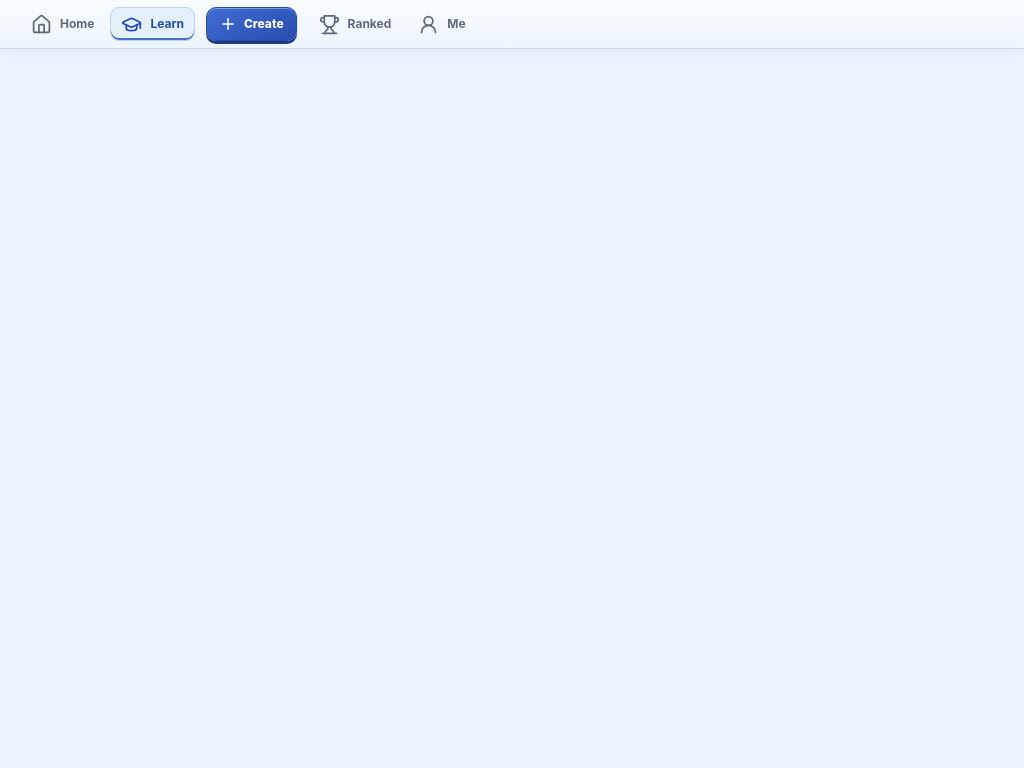
Test: the (+) Create action › opens the Create chooser over the current page, and stays a link to #/create
The image size is (1024, 768).
Click the link "Create" at (251, 24), box 206,7 -> 297,41
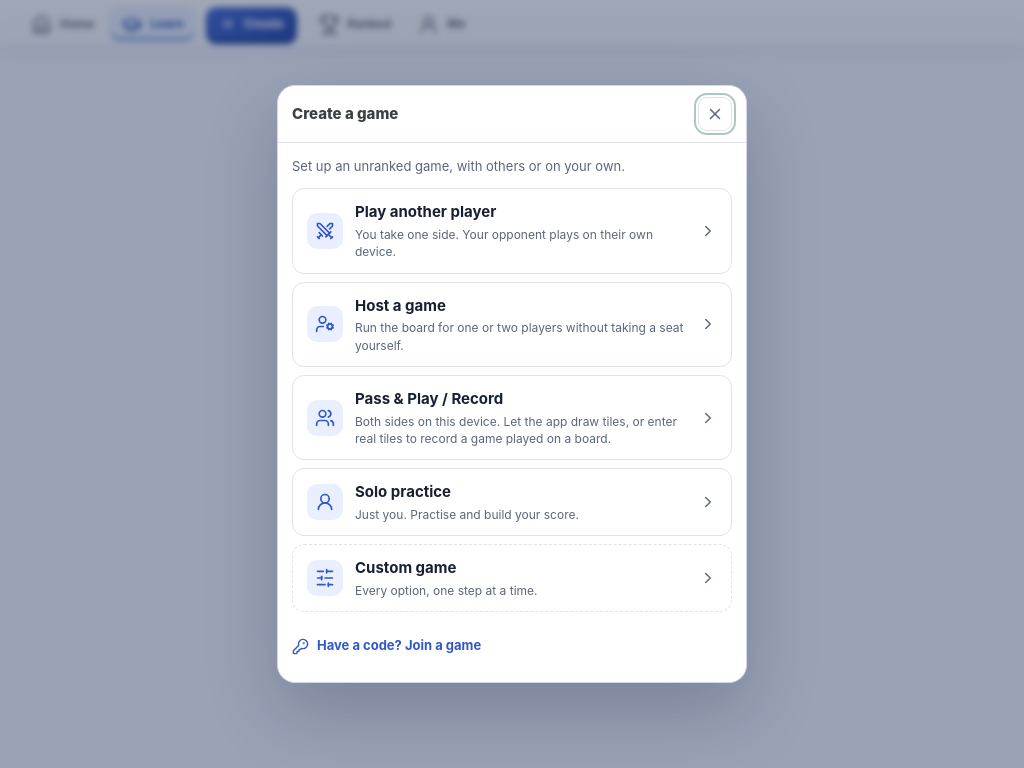
Result: the dialog "Create a game" is shown at 277,85 -> 747,683
Result: the link "Create" is expanded at 206,7 -> 297,41
